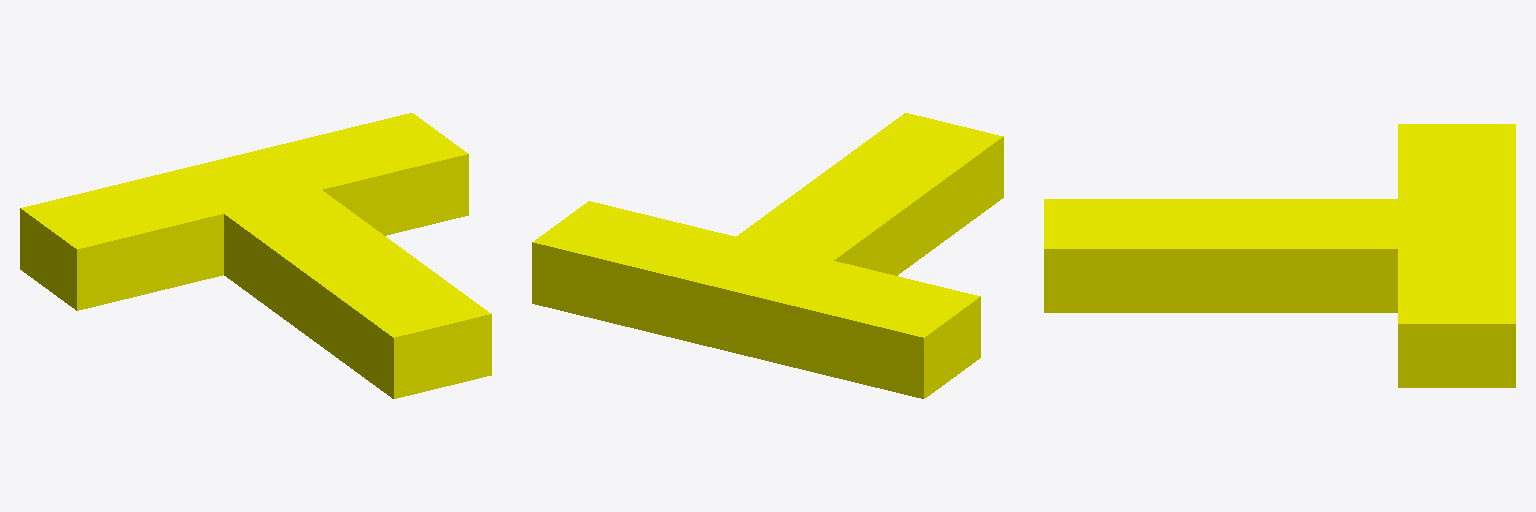
robot.urdf — T_20mm.urdf:
<?xml version="0.0" ?>
<robot name="T_20mm.urdf">
  <link name="baseLink">
    <contact>
      <friction_anchor/>
      <lateral_friction value="0.3"/>
      <rolling_friction value="0.0"/>
      <contact_cfm value="0.0"/>
      <contact_erp value="1.0"/>
    </contact>
    <inertial>
       <origin rpy="0 0 0" xyz="0 0 0"/>
       <mass value="0.176"/>
       <inertia ixx="8e-05" ixy="0" ixz="0" iyy="0.0002" iyz="0" izz="0.0002"/>
    </inertial>
    <visual>
      <geometry>
        <mesh filename="T_20mm.obj" scale="1 1 1.5"/>
      </geometry>
      <material name="orange">
        <color rgba="255. 165. 0. 1."/>
      </material>
    </visual>
    <collision>
      <geometry>
    	 	<mesh filename="T_20mm.obj" scale="1 1 1.5"/>
      </geometry>
    </collision>
  </link>
</robot>

--- Facts derived from the render (not from the file) ---
The picture shows the robot from 3 angles, left to right: view 1: azimuth 30°, elevation 25°; view 2: azimuth 150°, elevation 25°; view 3: azimuth 270°, elevation 25°; orthographic projection.
Model T_20mm.urdf with 1 links and 0 joints (none), rooted at baseLink, posed all joints at 0.
Links seen in each view (by area): view 1: baseLink; view 2: baseLink; view 3: baseLink.
Boxes of the visible links, <box> form: baseLink: <box>20,113,491,398</box>; baseLink: <box>532,113,1003,398</box>; baseLink: <box>1044,124,1515,387</box>.
Size in the robot's own frame: 0.2 by 0.2 by 0.03 metres.
Meshes: 1 distinct files referenced, 1 mesh visuals loaded (1 OBJ).